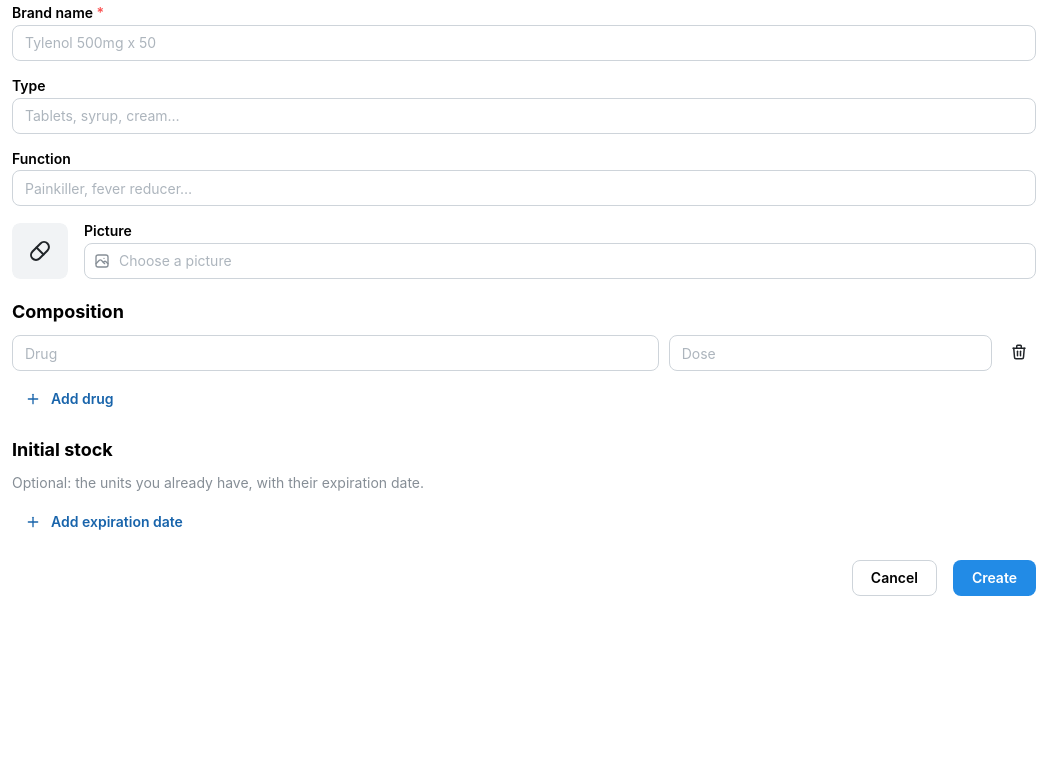
Test case: MedicationForm › asks for the missing half of a drug row
Type "Tafirol" into the field labelled "Brand name *" at (524, 43), box [12, 25, 1036, 61]
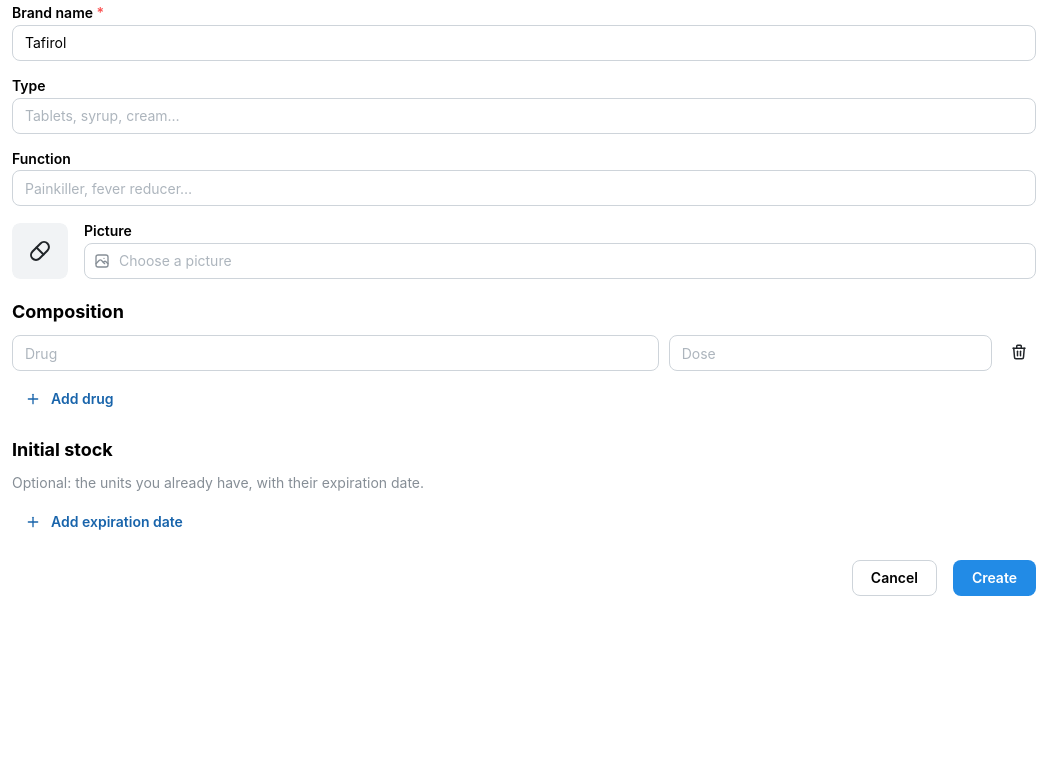
Click the button "Add drug" at (72, 399), box [12, 381, 133, 417]
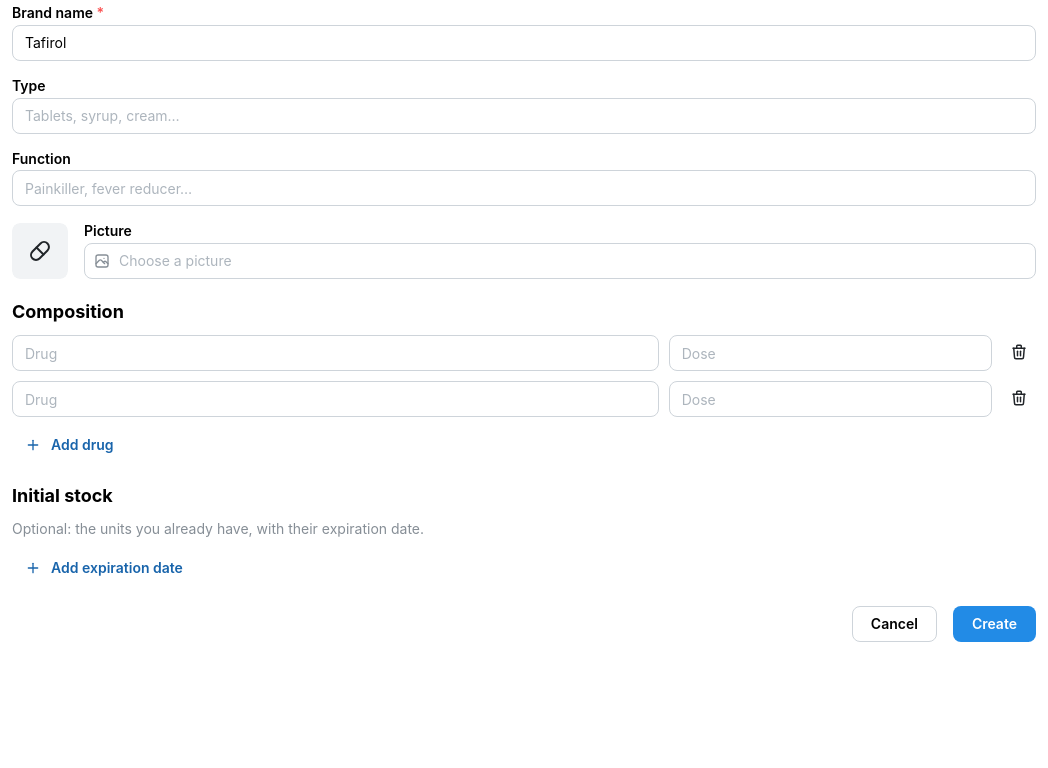
Type "Paracetamol" into the 1st dropdown labelled "Drug" at (335, 353), box [12, 335, 659, 371]
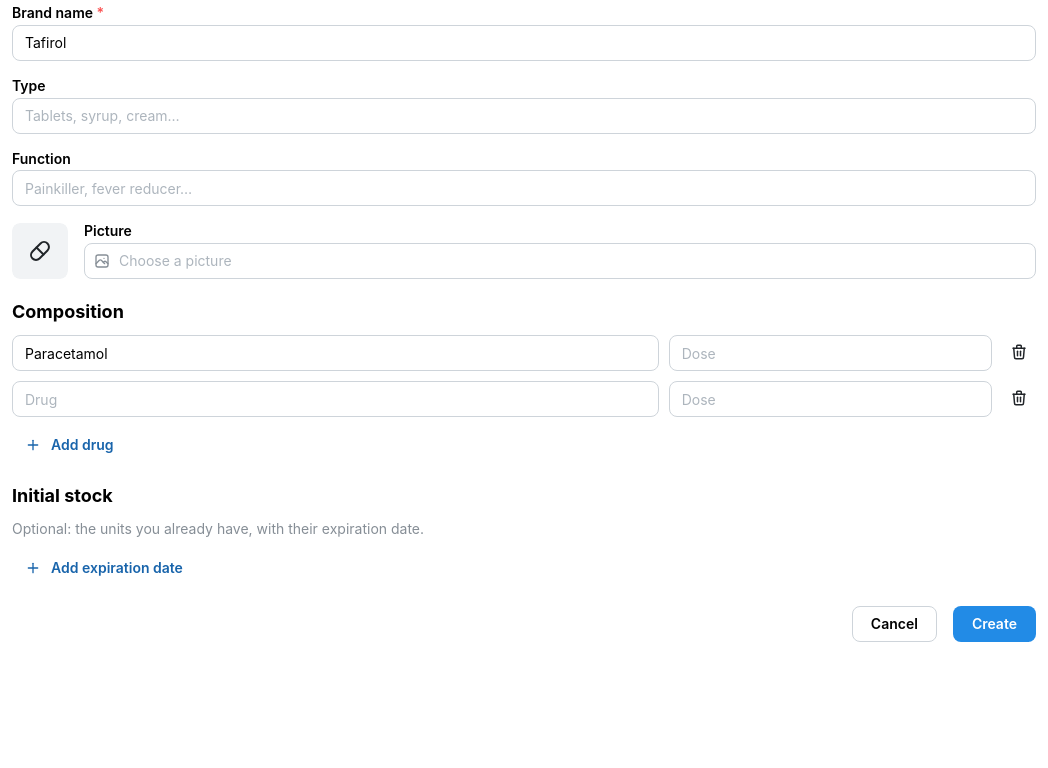
Type "1 g" into the 2nd field labelled "Dose" at (830, 399), box [669, 381, 992, 417]
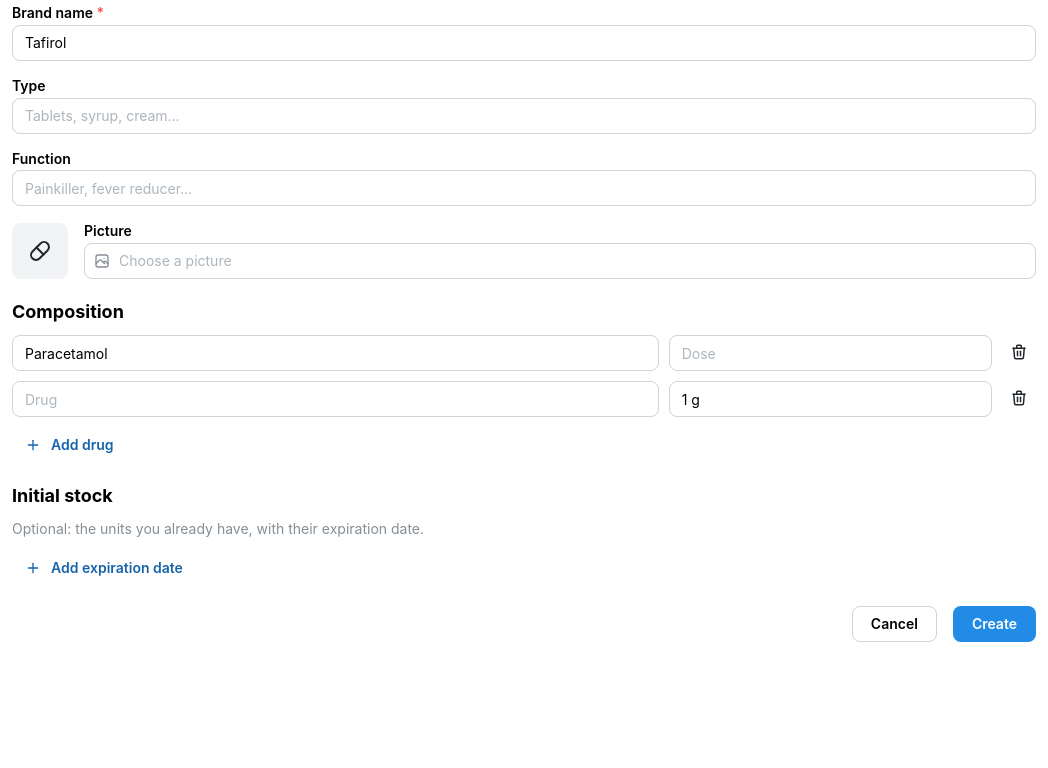
Click the button "Create" at (994, 624), box [953, 606, 1036, 642]
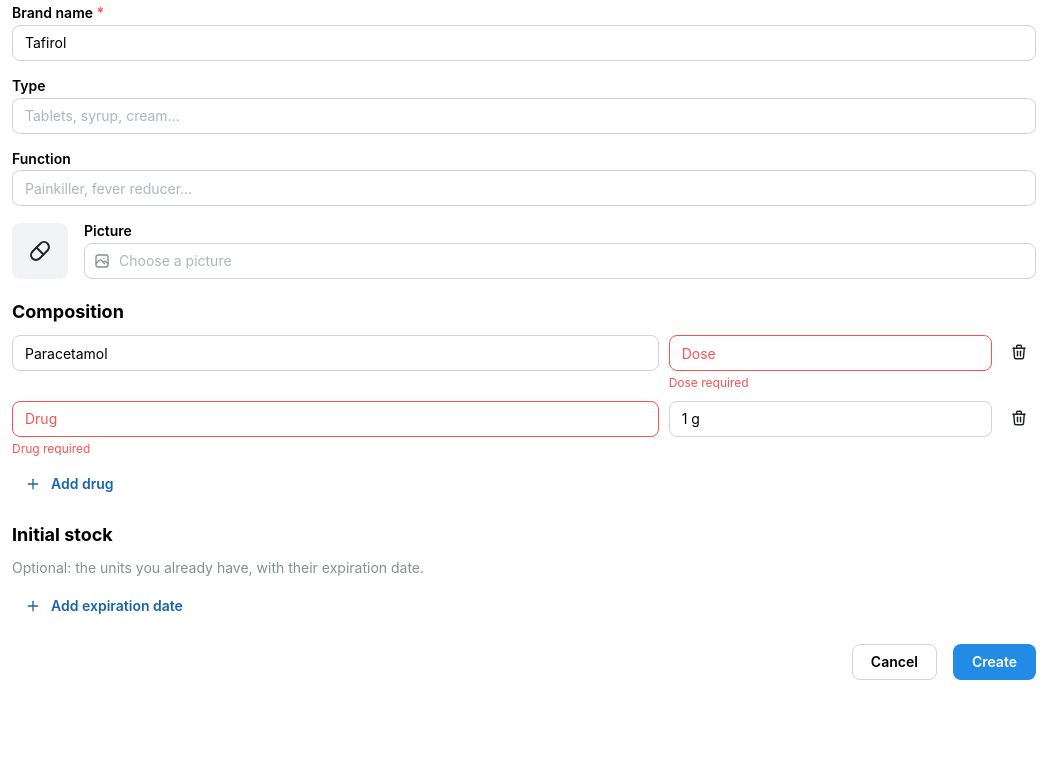
Check: the text "Dose required" is shown, box [669, 375, 749, 390]
Check: the text "Drug required" is shown, box [12, 441, 90, 456]
